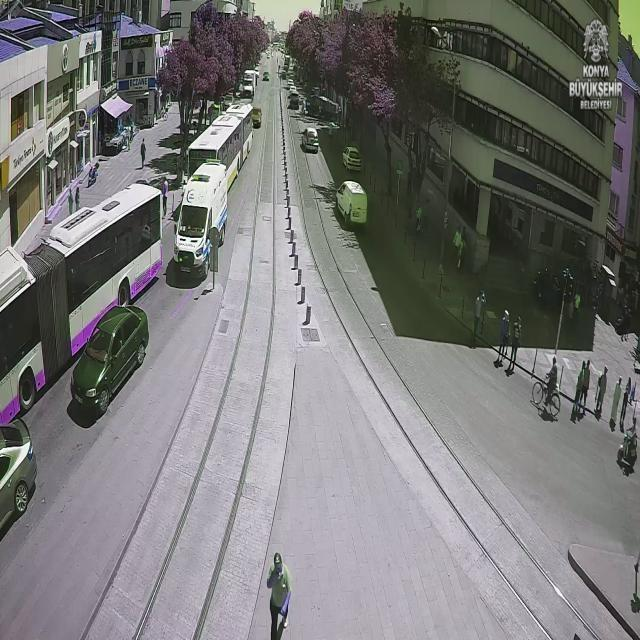Bus: (0, 182, 198, 426), (183, 98, 253, 178)
Car: (65, 303, 154, 409), (0, 417, 43, 535), (300, 124, 321, 163), (339, 141, 364, 173), (250, 104, 264, 129), (262, 69, 270, 83)
Cycle: (518, 348, 574, 416), (600, 417, 640, 470)
Truck: (238, 65, 257, 96)
Van: (170, 156, 229, 275), (329, 178, 372, 231)
